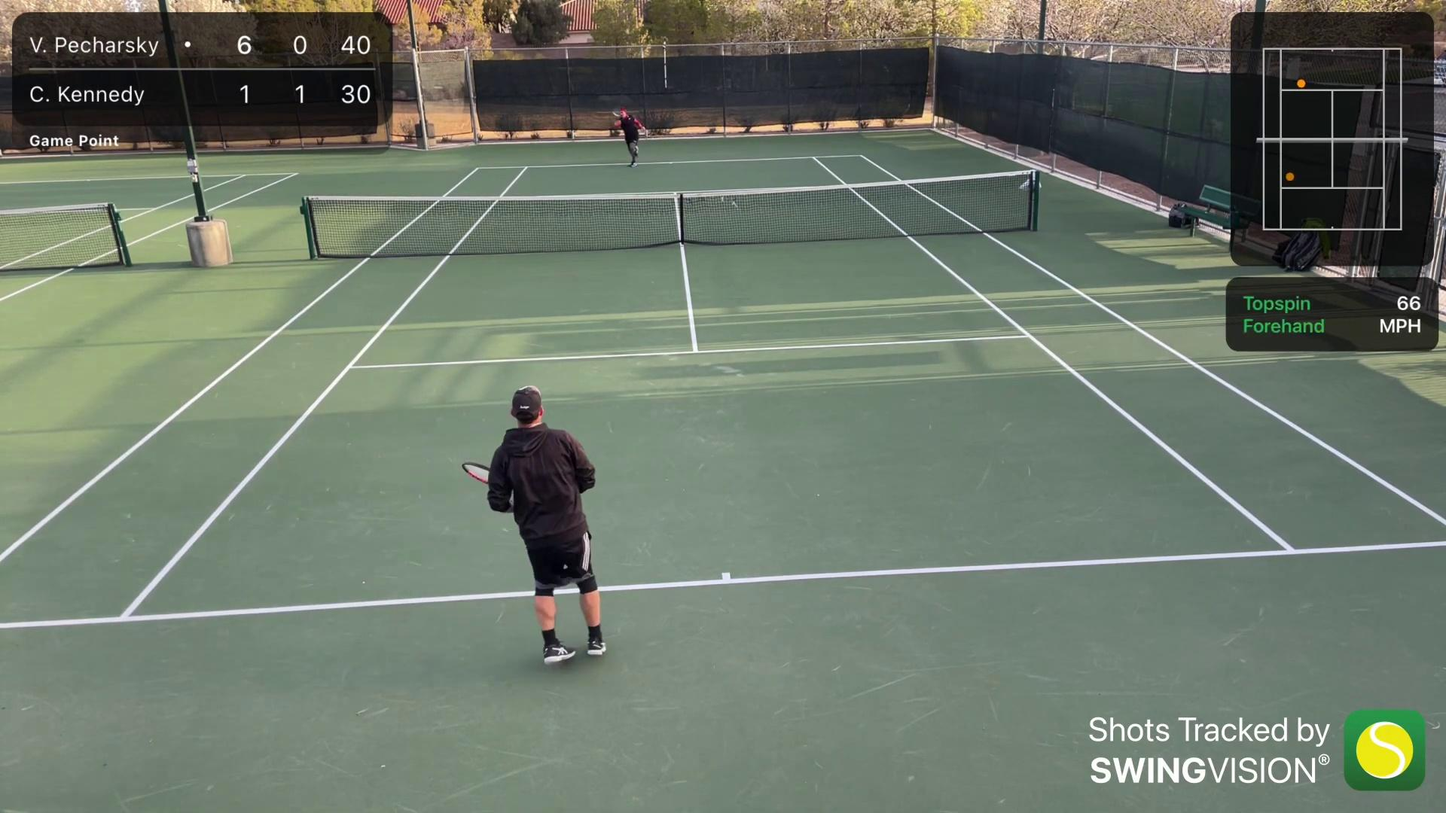ball: (570, 131, 577, 137)
